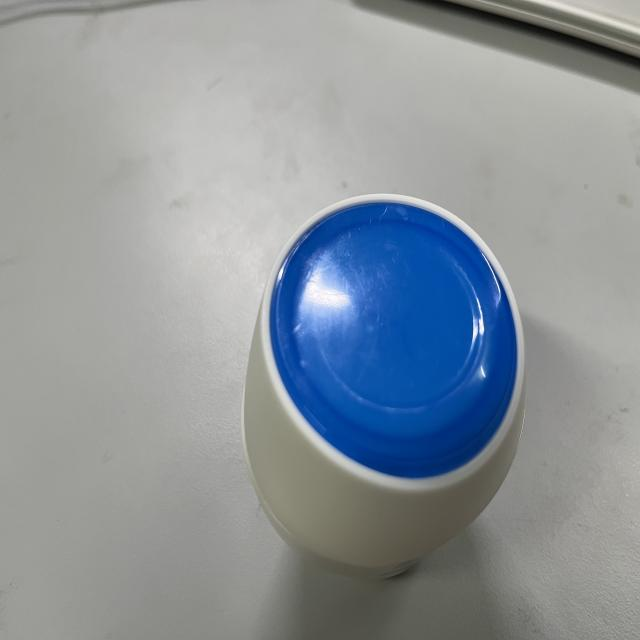L1: (232, 183, 544, 602)
